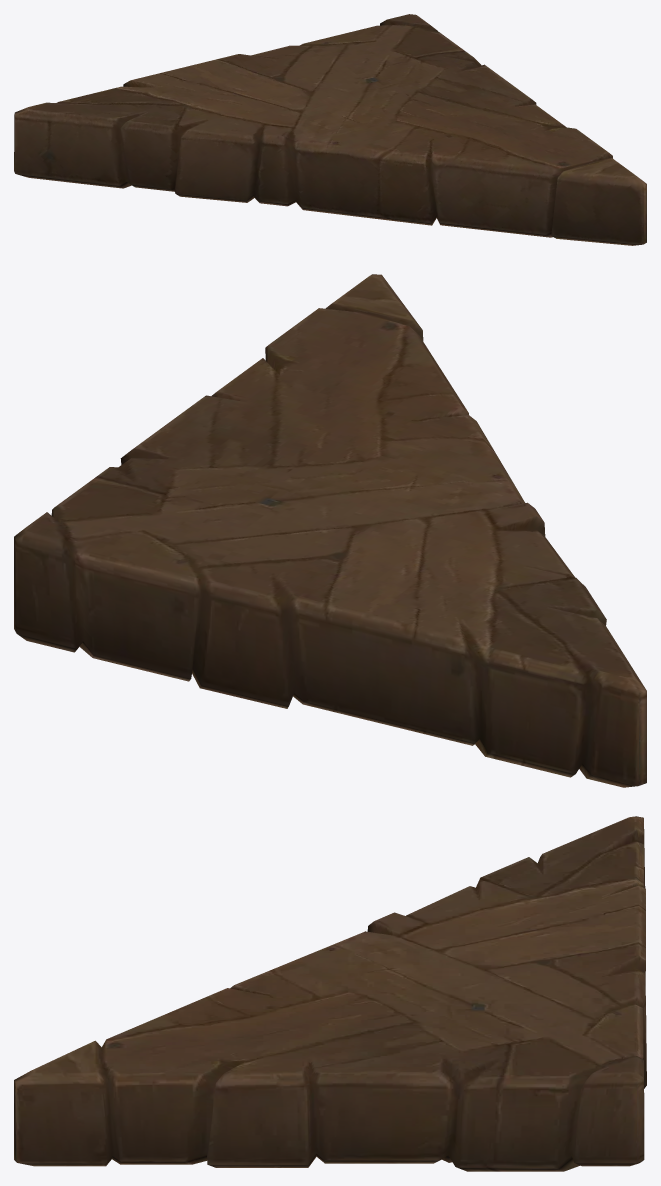
3 views of the same model, one above another, from view 1: azimuth 30°, elevation 25°; view 2: azimuth 150°, elevation 25°; view 3: azimuth 270°, elevation 25° (orthographic). The views are drawn at different scales.
Bounding box in the file's own units: 4.99 × 0.8659 × 4.96.
Materials: 1 (1 with a texture image).
